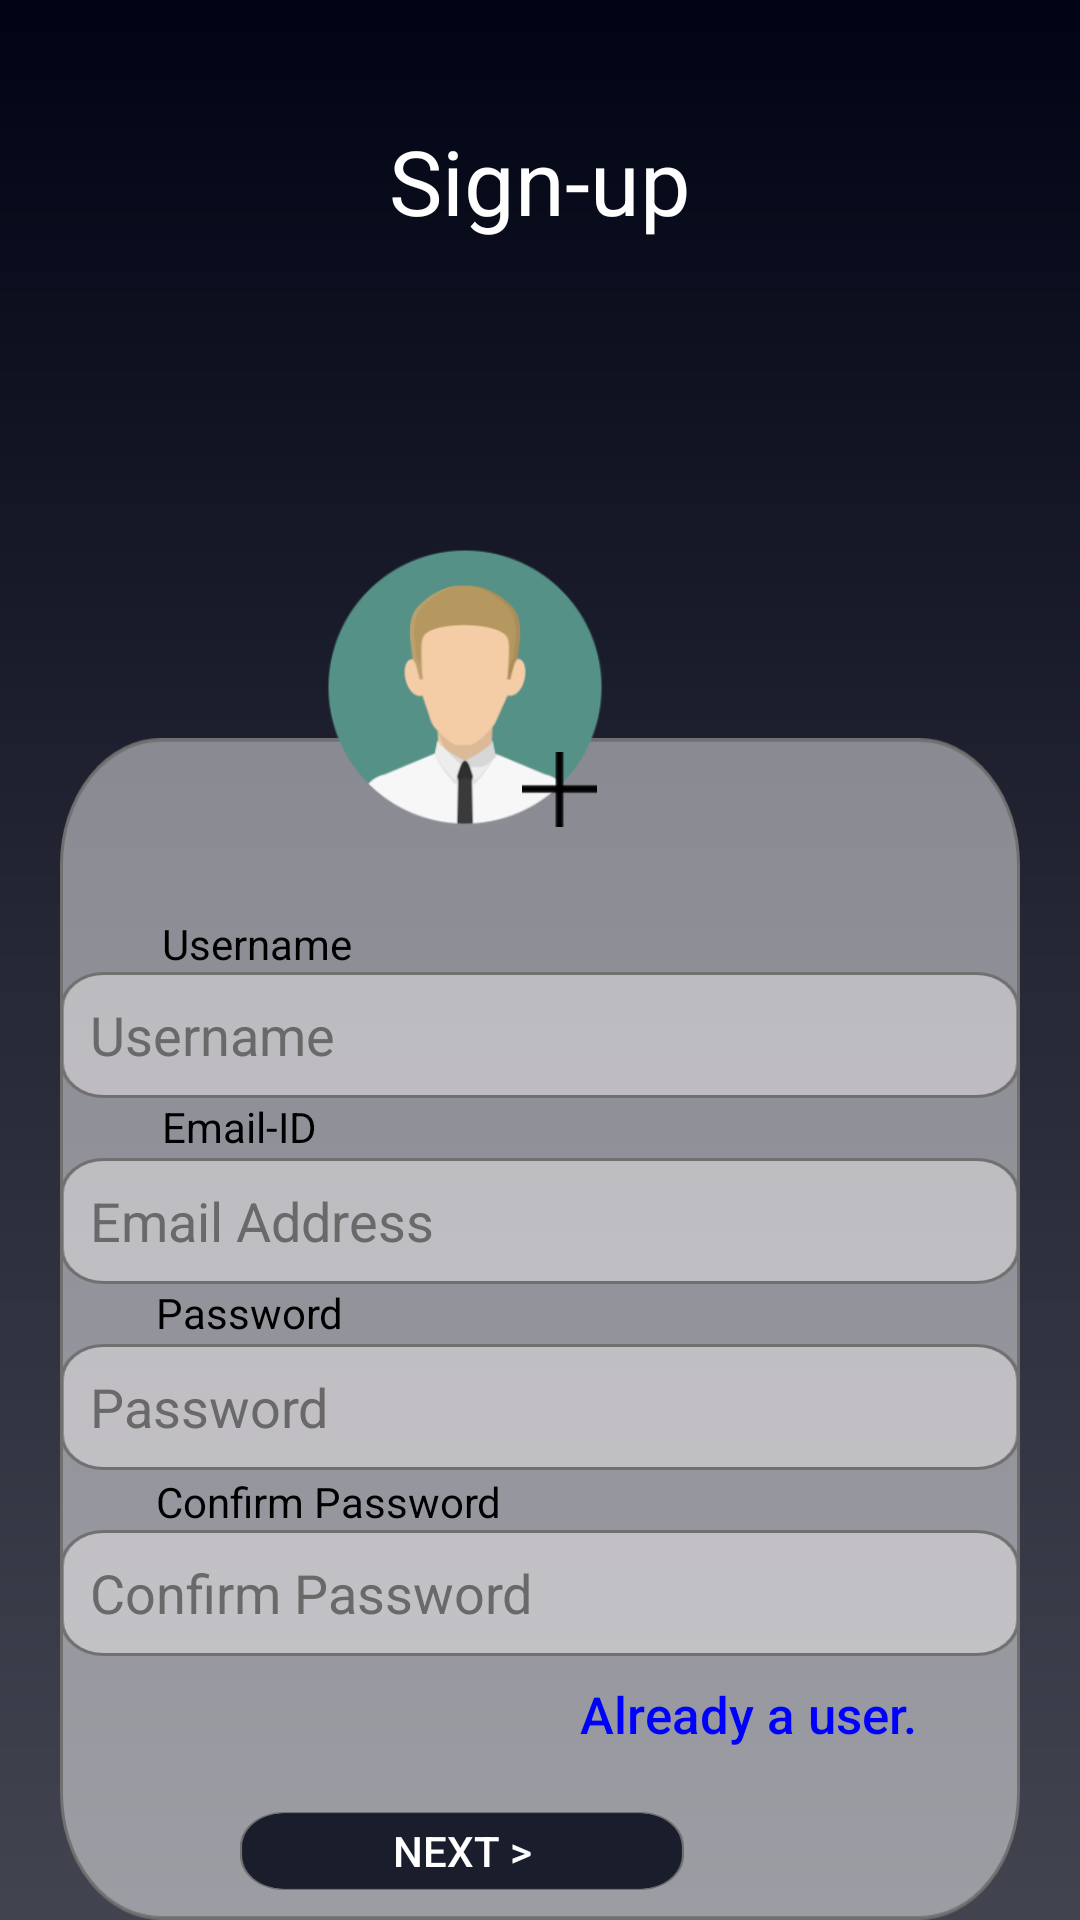

Icons on this 1080 x 1920 Android screen, each with the point to tap as (x,y):
add: (559,789)
